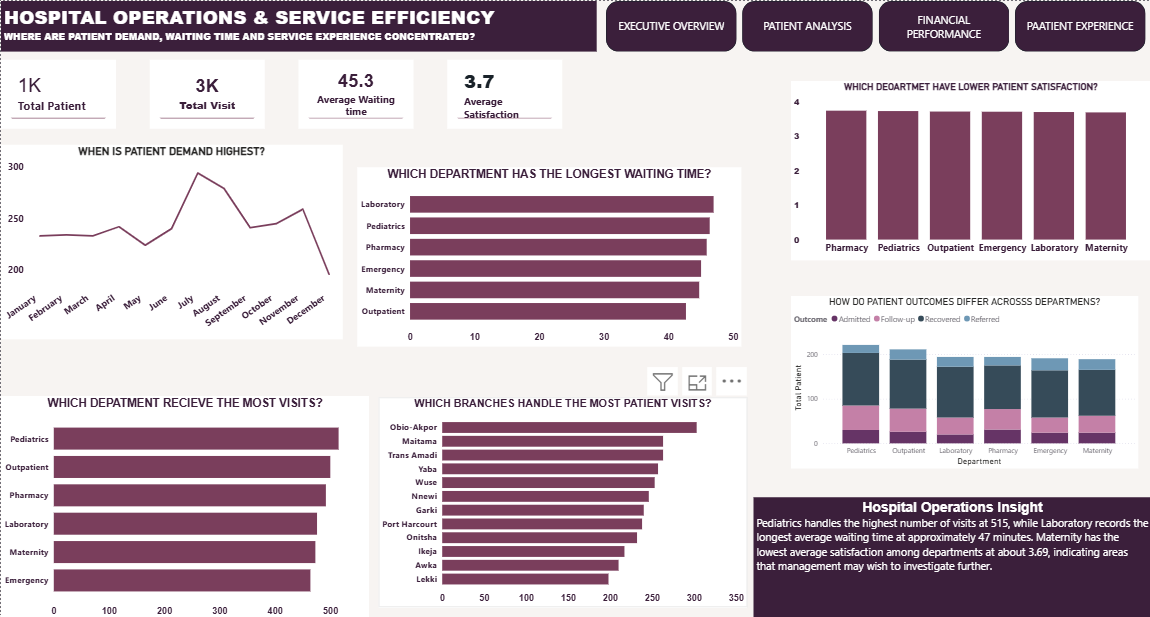

What the dashboard file says about the page in this screenshot:
{"tool":"powerbi","page":{"name":"HOSPITAL OPERATIONS","canvas":[2000,1080],"ordinal":3},"visuals":[{"type":"textbox","box":[0,0,1036,88],"z":0},{"type":"cardVisual","fields":{"Data":["Patient_Visits.Total Patient"]},"box":[0,102,200,120],"z":1000},{"type":"cardVisual","fields":{"Data":["Patient_Visits.Total Visit"]},"box":[259,102,200,120],"z":2000},{"type":"cardVisual","fields":{"Data":["Dim_Branch.Average Waiting time"]},"box":[518,102,200,120],"z":3000},{"type":"cardVisual","fields":{"Data":["Dim_Branch.Average Satisfaction"]},"box":[777,102,200,120],"z":4000},{"type":"clusteredBarChart","title":"WHICH DEPATMENT RECIEVE THE MOST VISITS?","fields":{"Y":["Patient_Visits.Total Visit"],"Category":["Dim_Department.Department"]},"box":[0,688,640,392],"z":5000},{"type":"pageNavigator","box":[1052,0,938,88],"z":6000},{"type":"textbox","box":[1308,862,692,218],"z":7000},{"type":"clusteredColumnChart","title":"WHICH DEOARTMET HAVE LOWER PATIENT SATISFACTION?","fields":{"Category":["Dim_Department.Department"],"Y":["Dim_Branch.Average Satisfaction"]},"box":[1374,140,626,312],"z":8000},{"type":"clusteredBarChart","title":"WHICH DEPARTMENT HAS THE LONGEST WAITING TIME?","fields":{"Y":["Dim_Branch.Average Waiting time"],"Category":["Dim_Department.Department"]},"box":[620,290,668,312],"z":9000},{"type":"lineChart","title":"WHEN IS PATIENT DEMAND HIGHEST?","fields":{"Category":["Dim_Date.Month"],"Y":["Patient_Visits.Total Visit"]},"box":[0,250,594,338],"z":10000},{"type":"columnChart","title":"HOW DO PATIENT OUTCOMES DIFFER ACROSSS DEPARTMENS?","fields":{"Category":["Dim_Department.Department"],"Series":["Patient_Visits.Outcome"],"Y":["Patient_Visits.Total Patient"]},"box":[1374,512,604,300],"z":11000},{"type":"clusteredBarChart","title":"WHICH BRANCHES HANDLE THE MOST PATIENT VISITS?","fields":{"Y":["Patient_Visits.Total Visit"],"Category":["Dim_Branch.Branch"]},"box":[656.9,688.2,641.2,366.7],"z":12000}]}

Visuals, with their boxes in screenshot pixels (x1, y1, x2, y2), scaled from the page's 2000x1080 canvas onto the 1150x617 screenshot:
textbox: left=0, top=0, right=596, bottom=50
cardVisual - Patient_Visits.Total Patient: left=0, top=58, right=115, bottom=127
cardVisual - Patient_Visits.Total Visit: left=149, top=58, right=264, bottom=127
cardVisual - Dim_Branch.Average Waiting time: left=298, top=58, right=413, bottom=127
cardVisual - Dim_Branch.Average Satisfaction: left=447, top=58, right=562, bottom=127
"WHICH DEPATMENT RECIEVE THE MOST VISITS?" clusteredBarChart: left=0, top=393, right=368, bottom=616
pageNavigator: left=605, top=0, right=1144, bottom=50
textbox: left=752, top=492, right=1149, bottom=616
"WHICH DEOARTMET HAVE LOWER PATIENT SATISFACTION?" clusteredColumnChart: left=790, top=80, right=1149, bottom=258
"WHICH DEPARTMENT HAS THE LONGEST WAITING TIME?" clusteredBarChart: left=356, top=166, right=741, bottom=344
"WHEN IS PATIENT DEMAND HIGHEST?" lineChart: left=0, top=143, right=342, bottom=336
"HOW DO PATIENT OUTCOMES DIFFER ACROSSS DEPARTMENS?" columnChart: left=790, top=293, right=1137, bottom=464
"WHICH BRANCHES HANDLE THE MOST PATIENT VISITS?" clusteredBarChart: left=378, top=393, right=746, bottom=603
